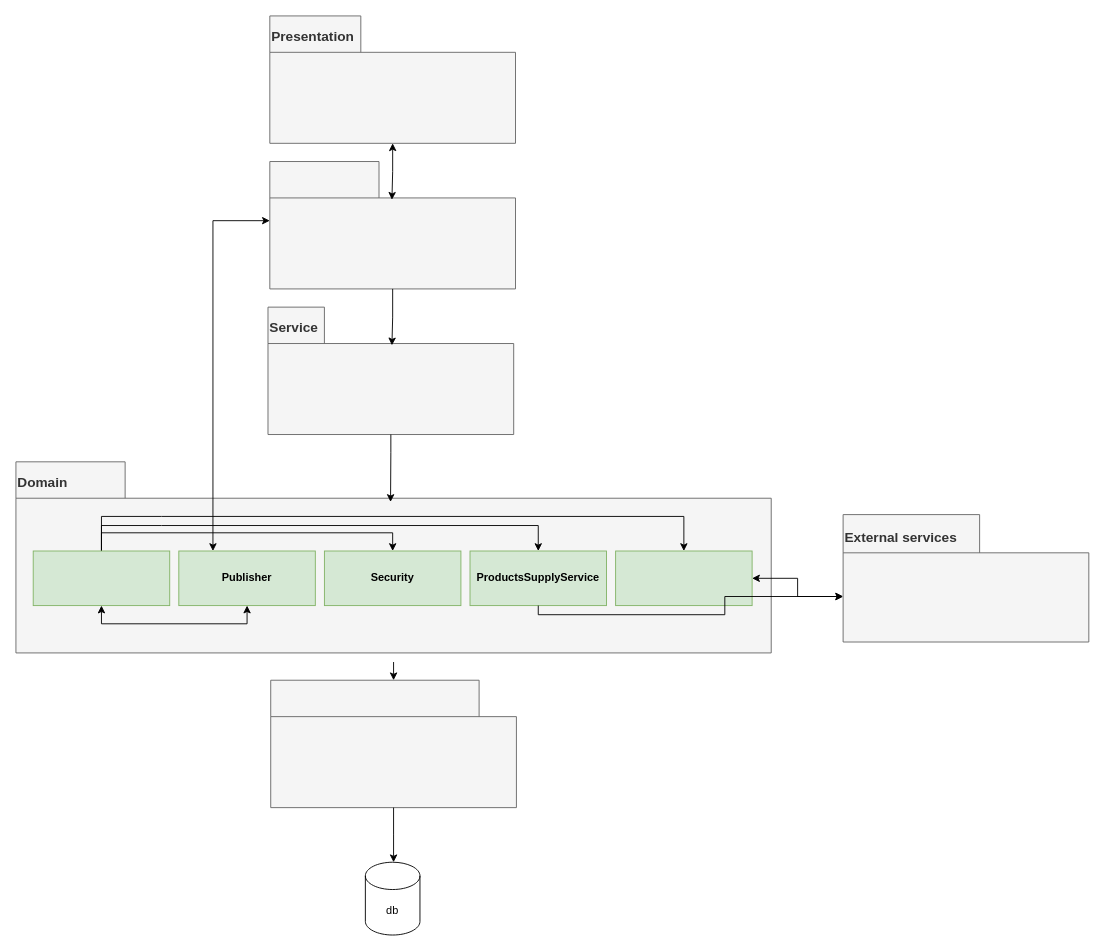
This 1105x951 diagram has some shape labels left out. The shapes that lost their labels are listed below. From the top down, each one's box as (x1, y1, x2, y2) in pixels, then its label:
(269, 161, 516, 289): Communication
(32, 550, 170, 606): Market
(615, 550, 752, 606): PaymentService
(270, 679, 516, 808): Data Access Layer (hibernate)
